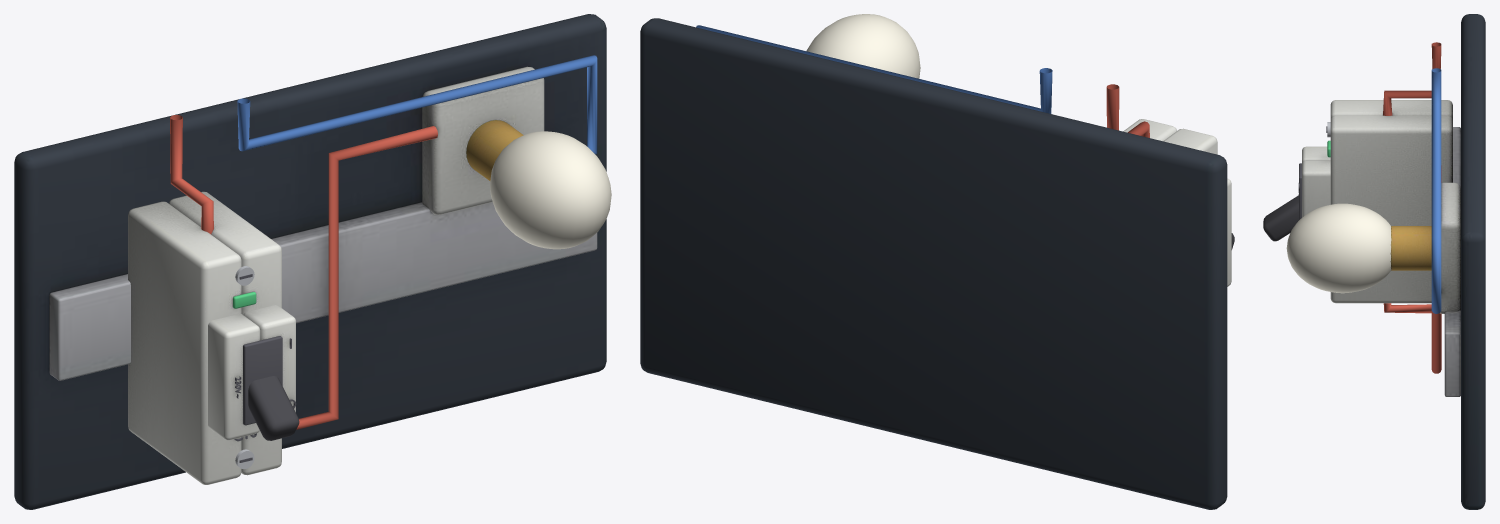
The picture shows the model from 3 angles, left to right: view 1: azimuth 30°, elevation 25°; view 2: azimuth 150°, elevation 25°; view 3: azimuth 270°, elevation 25°; orthographic projection. The views are drawn at different scales.
Visible parts, largest first — view 1: Platine, Rail, Coque_gauche, Ampoule, Socle_Ampoule, Coque_droite, Cable_neutre, Nez_gauche, Cable_depart, Levier, Nez_droite, Fente (+2 smaller); view 2: Platine, Ampoule, Cable_neutre, Coque_gauche, Cable_arrivee; view 3: Coque_droite, Platine, Ampoule, Cable_neutre, Socle_Ampoule, Rail, Douille, Coque_gauche, Nez_droite, Cable_depart, Levier, Cable_arrivee (+1 smaller).
Part boxes in pixels (x1,y1,x2,y2): Platine: [14, 14, 606, 509]; Rail: [49, 202, 597, 380]; Coque_gauche: [128, 201, 241, 484]; Ampoule: [490, 131, 611, 249]; Socle_Ampoule: [422, 66, 544, 214]; Coque_droite: [169, 191, 281, 475]; Cable_neutre: [237, 55, 597, 154]; Nez_gauche: [208, 314, 260, 440]; Cable_depart: [296, 126, 437, 429]; Levier: [248, 376, 299, 440]; Nez_droite: [243, 305, 295, 412]; Fente: [243, 336, 282, 425]; Platine: [640, 18, 1227, 509]; Ampoule: [806, 14, 920, 78]; Cable_neutre: [696, 25, 1052, 113]; Coque_gauche: [1163, 128, 1217, 154]; Cable_arrivee: [1106, 84, 1149, 137]; Coque_droite: [1330, 115, 1452, 303]; Platine: [1461, 14, 1485, 509]; Ampoule: [1286, 203, 1391, 293]; Cable_neutre: [1431, 68, 1441, 313]; Socle_Ampoule: [1440, 182, 1460, 313]; Rail: [1444, 127, 1460, 396]; Douille: [1390, 226, 1431, 270]; Coque_gauche: [1330, 100, 1452, 119]; Nez_droite: [1302, 160, 1330, 217]; Cable_depart: [1383, 165, 1441, 373]; Levier: [1263, 195, 1298, 241]; Cable_arrivee: [1383, 42, 1441, 115].
Bounding box in the file's own units: 0.26 × 0.16 × 0.1089.
Materials: 19 (8 with a texture image).
